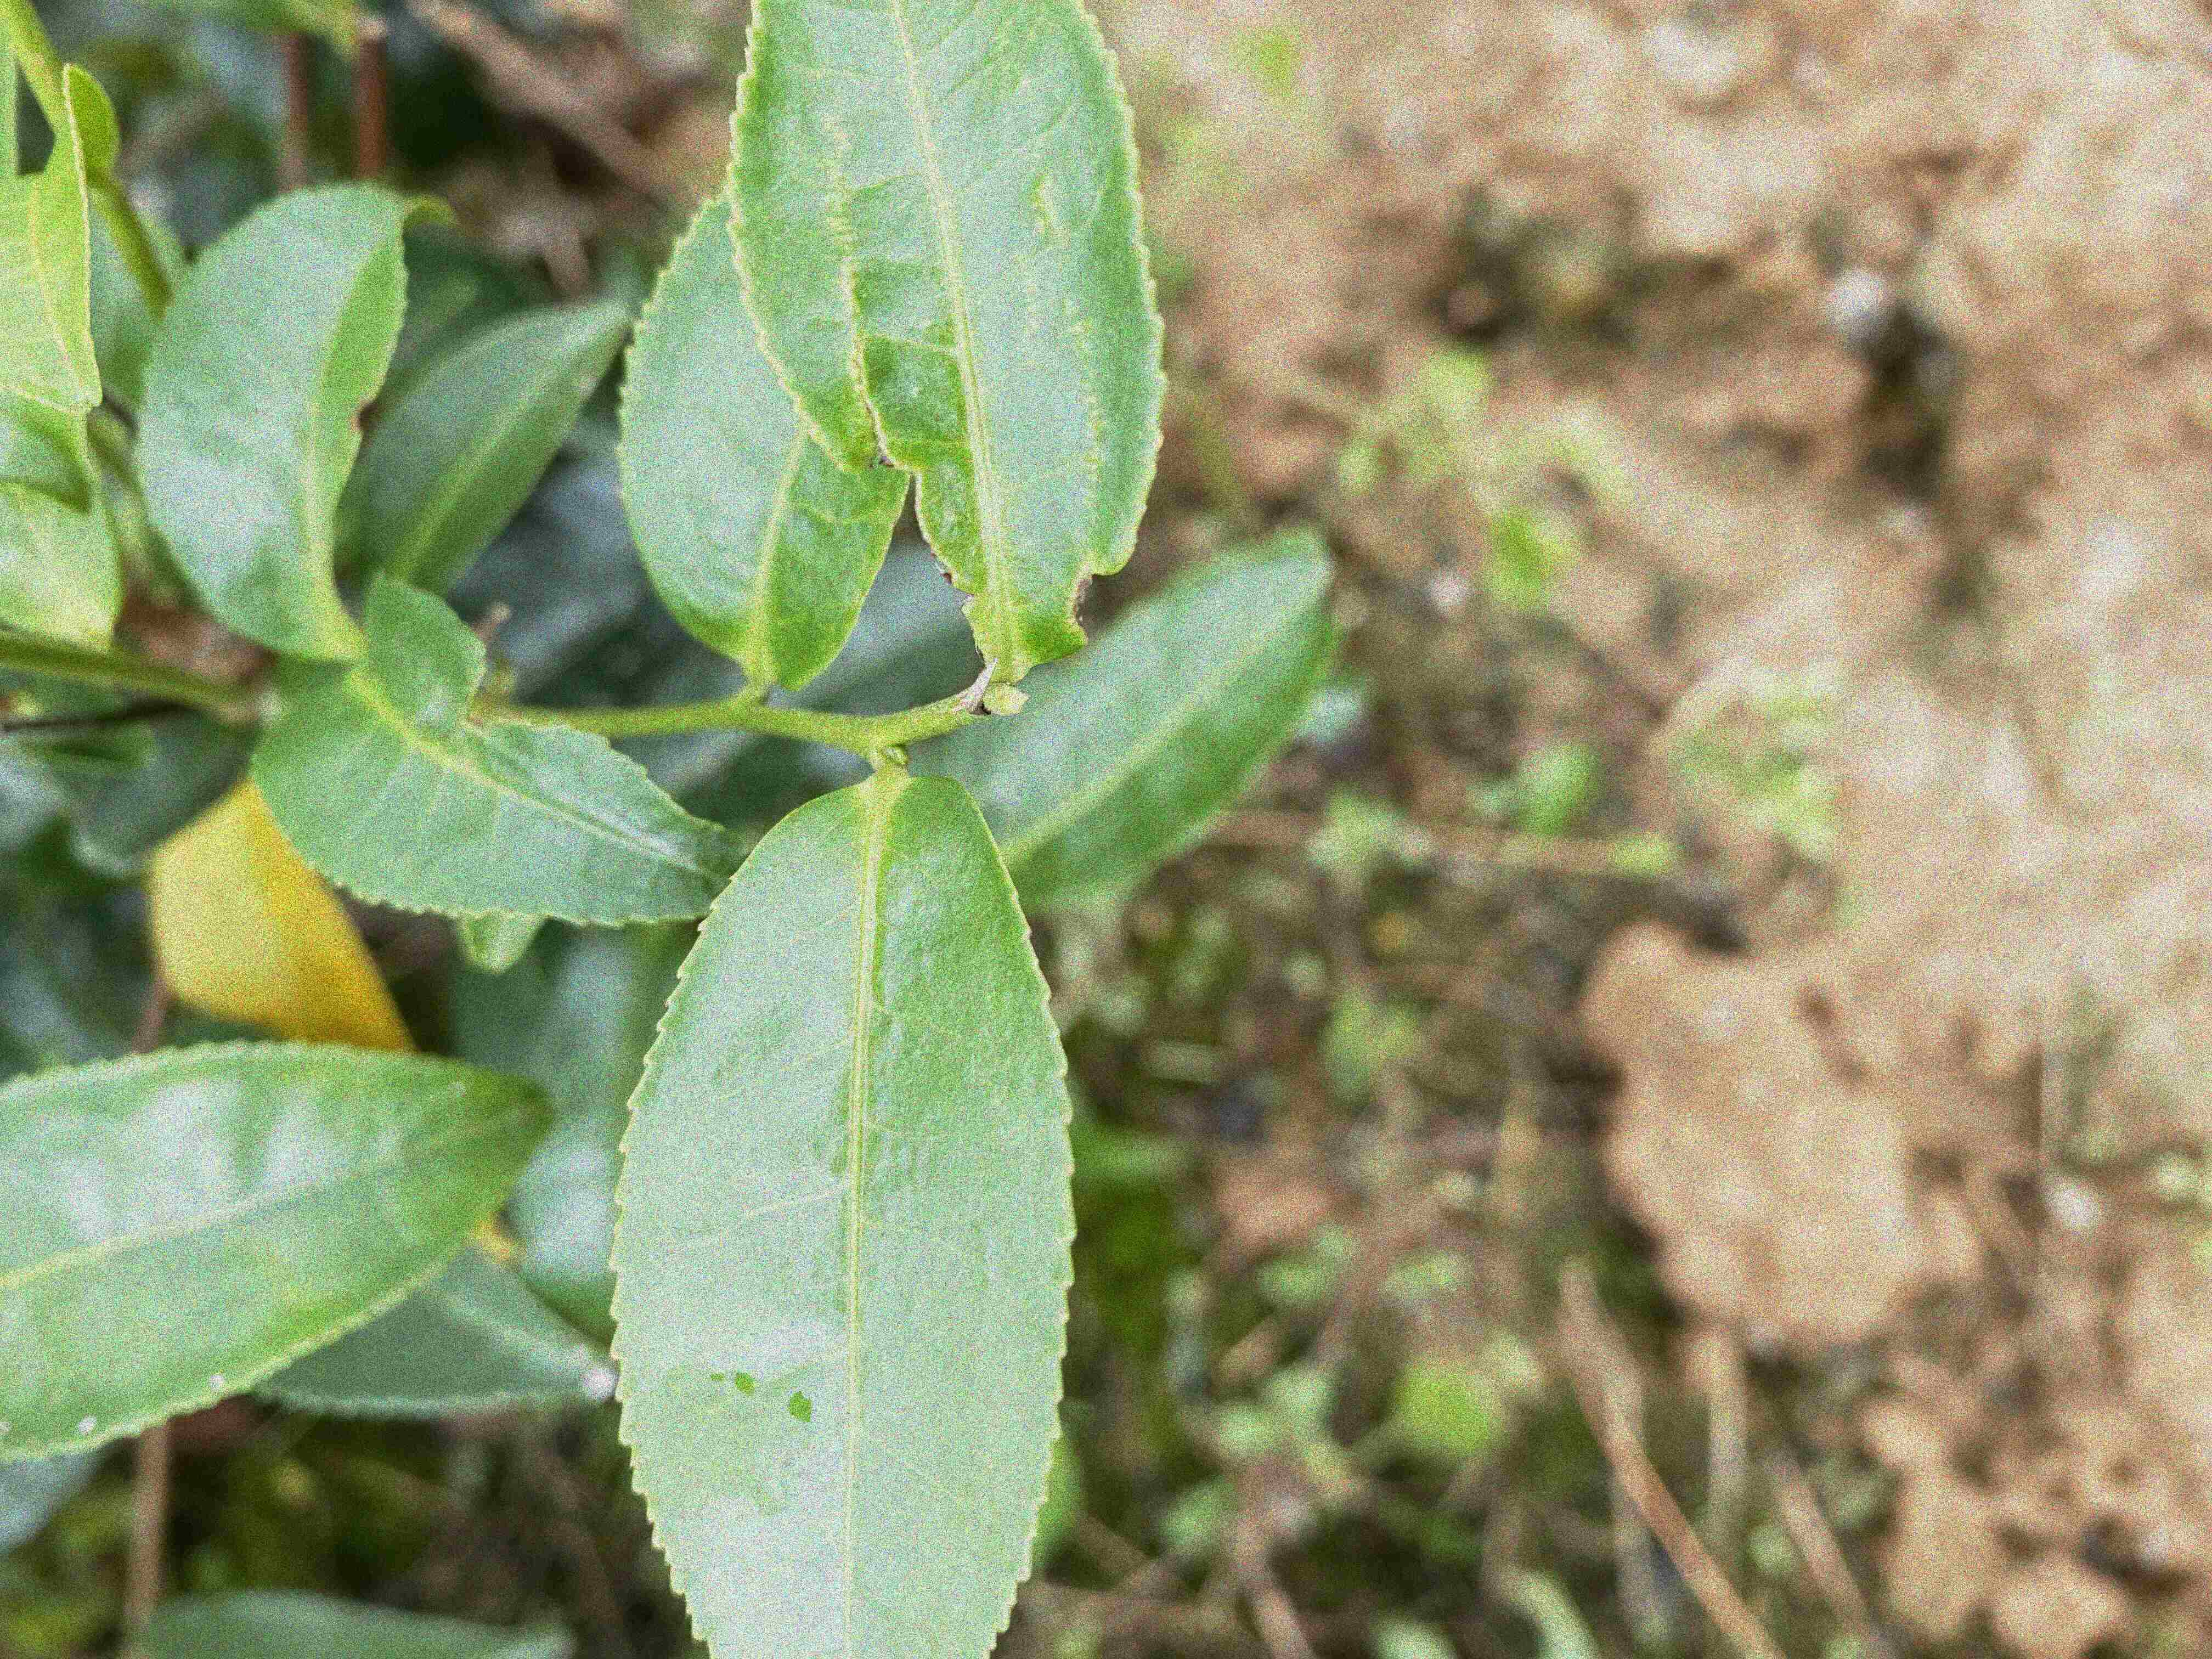chihuo_high: (725, 0, 1165, 685)
chihuo_low: (251, 563, 749, 925)
healthy: (608, 763, 1080, 1656)
